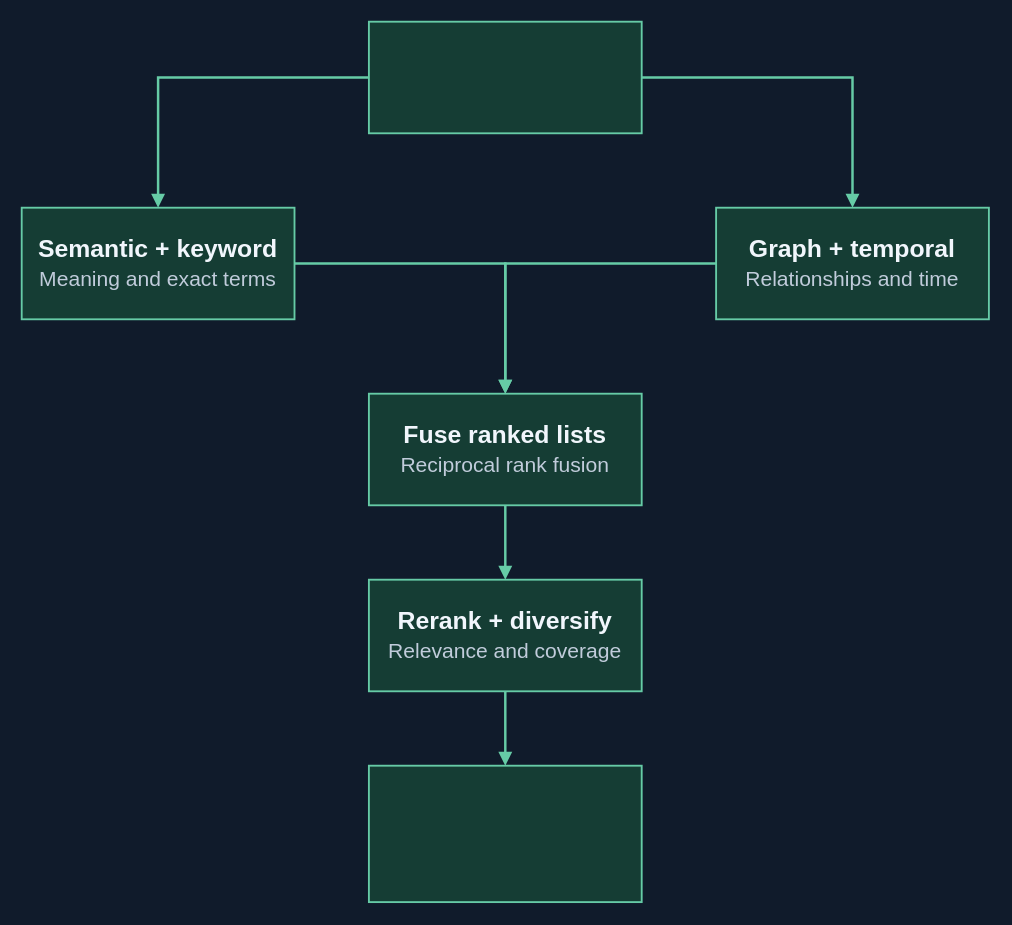
This 1012x925 diagram has some shape labels left out. The shapes that lost their labels are listed below. From the top down, each one's box as (x1, y1, x2, y2) in pixels, then its label:
(367, 20, 642, 134): Question + bank Scope the search
(367, 764, 642, 902): Return evidence Fit the fact-token budget
